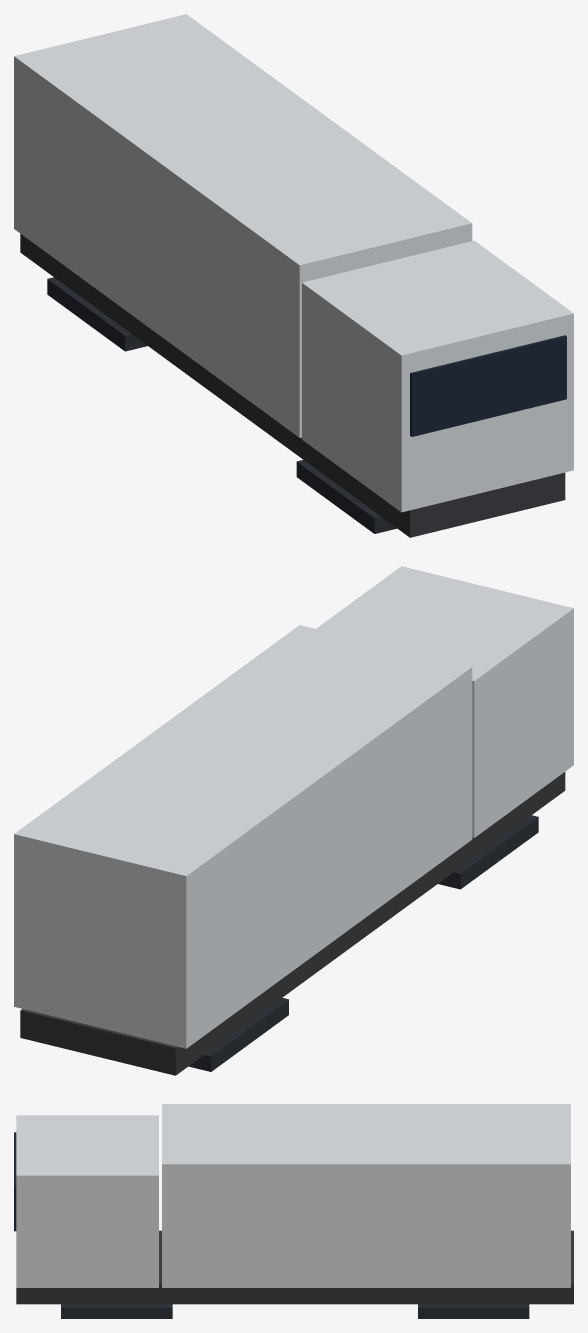
File: veh_ground_bus_a10_lod2.glb
The picture shows the model from 3 angles, top to bottom: view 1: azimuth 30°, elevation 25°; view 2: azimuth 150°, elevation 25°; view 3: azimuth 270°, elevation 25°; orthographic projection. The views are drawn at different scales.
Parts seen in each view (by area): view 1: body; view 2: body; view 3: body.
Part boxes in pixels (x1,y1,x2,y2): body: [14, 14, 573, 537]; body: [14, 566, 573, 1075]; body: [14, 1104, 573, 1318].
Size of the model in its own units: 2.3 by 2.84 by 9.04.
